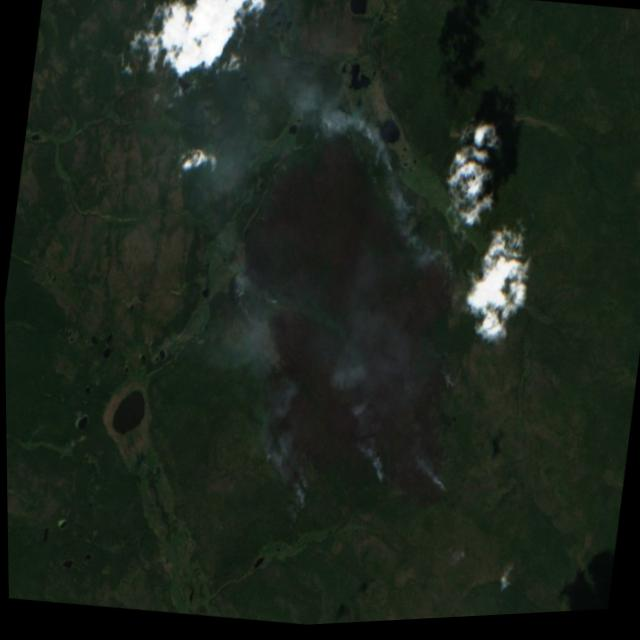fire: (349, 130, 479, 303), (234, 365, 328, 528), (213, 240, 260, 326), (362, 463, 396, 502), (425, 473, 454, 511)
